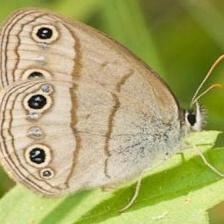butterfly: (0, 9, 202, 196)
